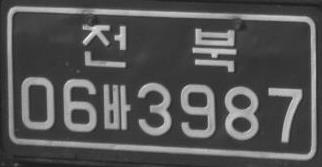0: (20, 75, 55, 130)
3: (138, 80, 172, 136)
6: (62, 76, 97, 132)
7: (266, 85, 303, 143)
8: (224, 85, 260, 140)
9: (179, 82, 216, 138)
바: (102, 83, 131, 130)
전북_D: (80, 22, 236, 72)
